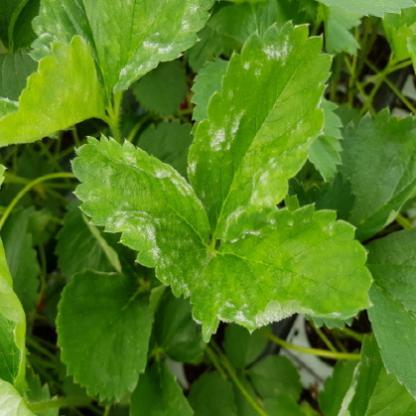Strawberry_Powdery_Mildew_Leaf: (184, 20, 334, 240), (188, 202, 376, 344), (70, 132, 212, 299), (28, 0, 216, 110)
